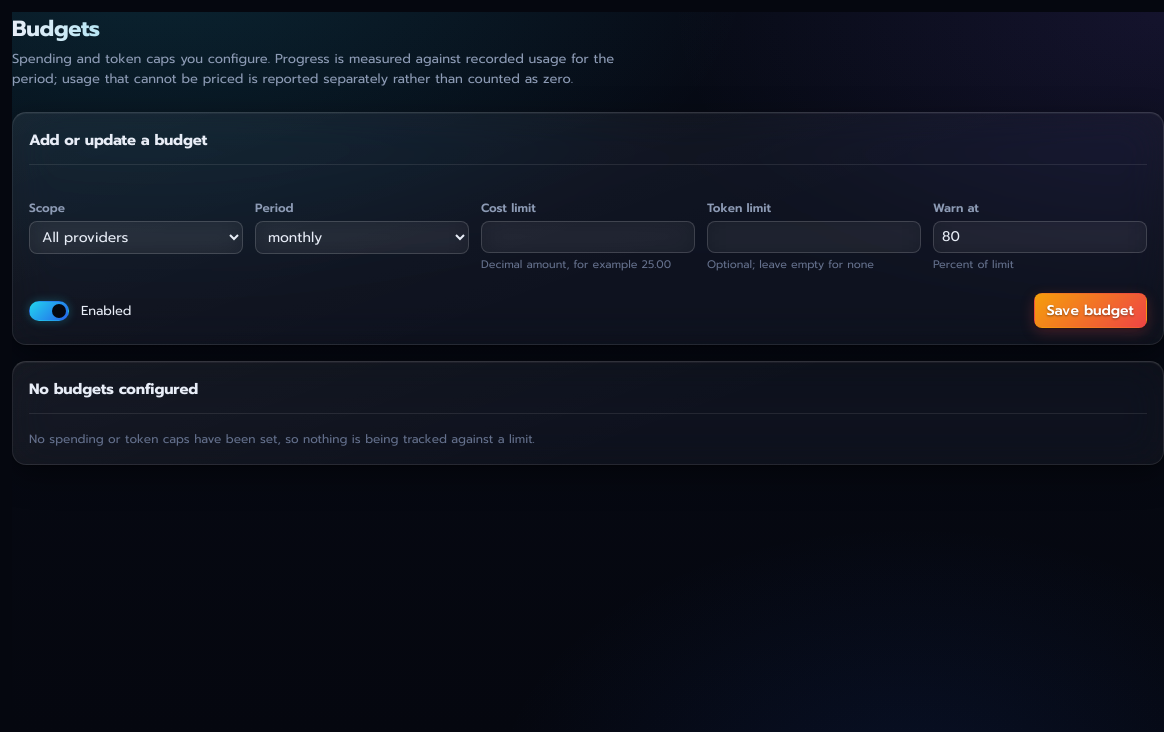
Test: BudgetsPage › reports a rejected budget instead of pretending it saved
Check: the heading "No budgets configured" is shown, box [29, 378, 198, 400]
Click the button "Save budget": [1090, 310] box [1034, 293, 1147, 328]
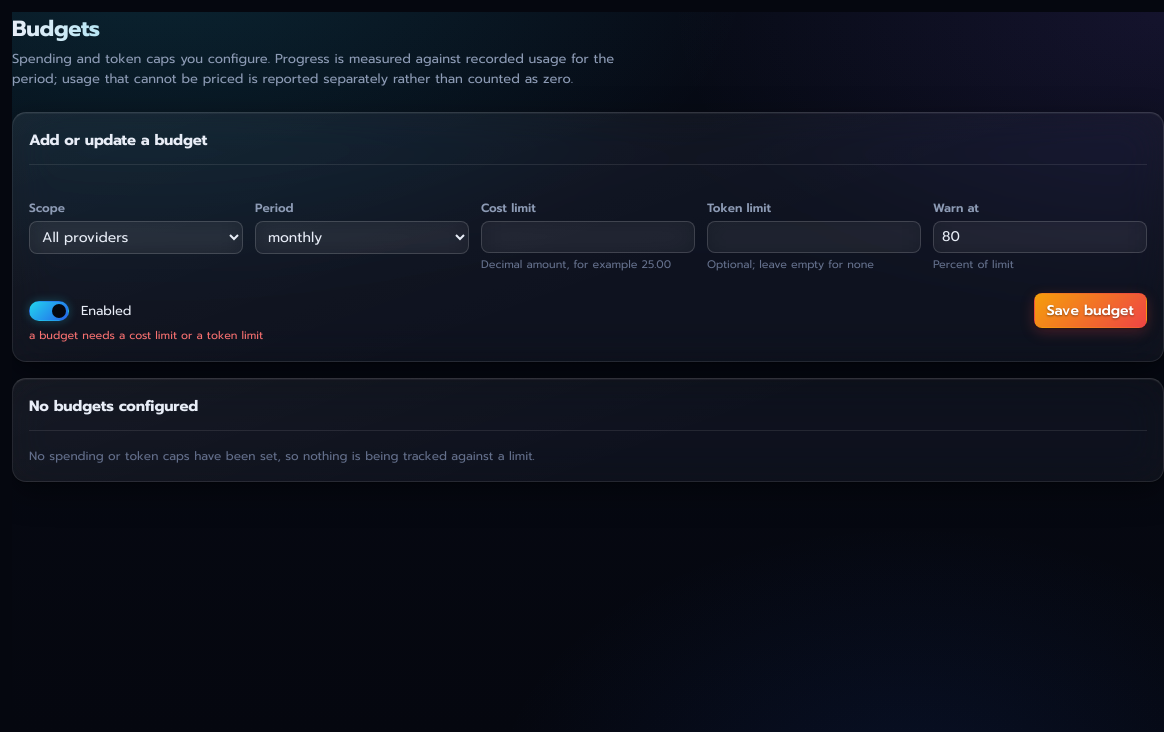
Check: the text "a budget needs a cost limit or a token limit" is shown, box [29, 327, 263, 344]
